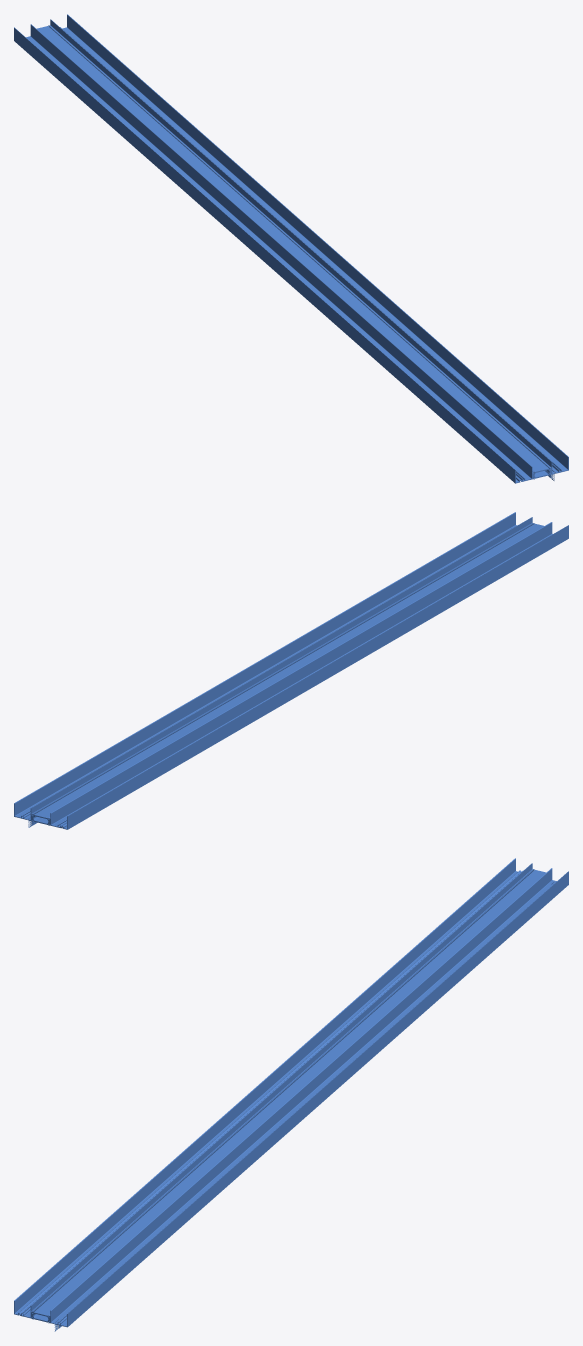
The model's file is right-p1-rcv-t-t02.glb.
The picture shows the model from 3 angles, top to bottom: view 1: azimuth 30°, elevation 25°; view 2: azimuth 150°, elevation 25°; view 3: azimuth 330°, elevation 25°; orthographic projection.
Parts seen in each view (by area): view 1: RIGHT P1_RCV_T T02; view 2: RIGHT P1_RCV_T T02; view 3: RIGHT P1_RCV_T T02.
Part boxes in pixels (left/top/right/bottom): RIGHT P1_RCV_T T02: left=14, top=14, right=568, bottom=483; RIGHT P1_RCV_T T02: left=14, top=512, right=568, bottom=829; RIGHT P1_RCV_T T02: left=14, top=858, right=568, bottom=1331.
Size of the model in its own units: 0.00418 by 0.00726 by 0.0676.
